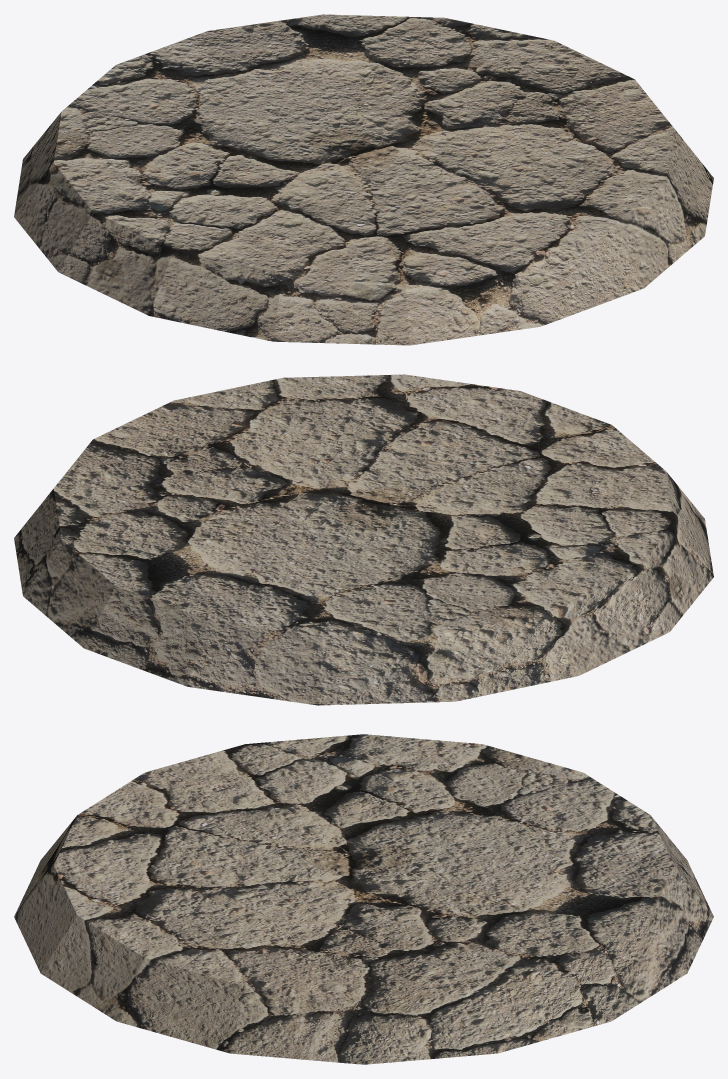
Rendered from car_showcase.gltf.
3 renders of one model, top to bottom at view 1: azimuth 30°, elevation 25°; view 2: azimuth 150°, elevation 25°; view 3: azimuth 270°, elevation 25°, orthographic.
Visible parts, largest first — view 1: Circle; view 2: Circle; view 3: Circle.
Part boxes in pixels (<box>): Circle: <box>14,14,713,345</box>; Circle: <box>14,374,713,705</box>; Circle: <box>14,734,713,1064</box>.
Size of the model in its own units: 2 by 0.1627 by 2.
Materials: 1 (1 with a texture image).
